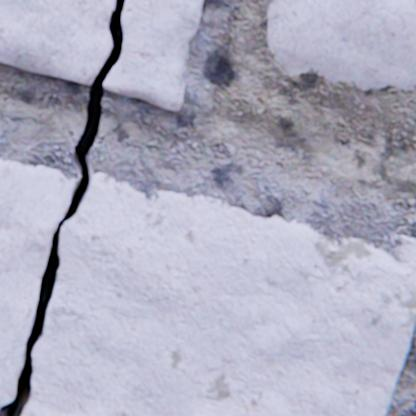brick: (265, 0, 415, 92)
broken_brick: (20, 170, 415, 415), (0, 157, 78, 405), (103, 0, 202, 111), (0, 0, 115, 85), (388, 233, 395, 241)
crack: (0, 0, 125, 415)
